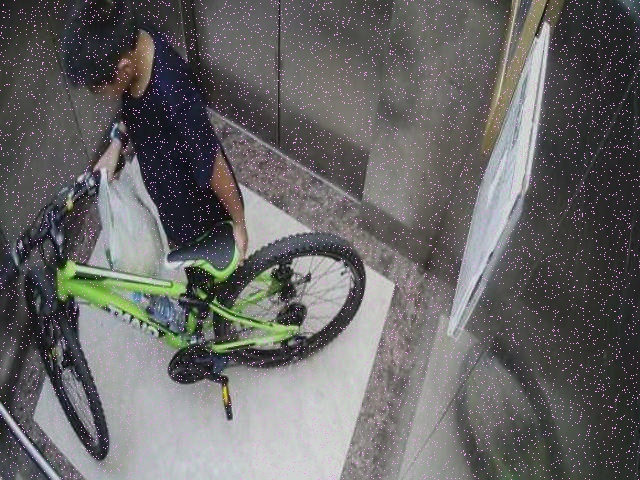bag: (87, 161, 172, 289)
bicycle: (9, 173, 376, 464)
person: (65, 29, 250, 350)
